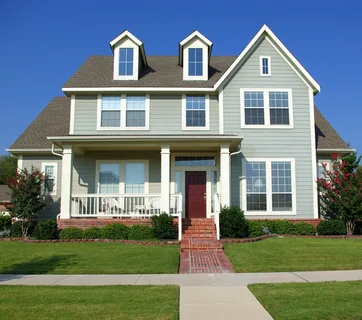private_hause: (40, 48, 327, 228)
